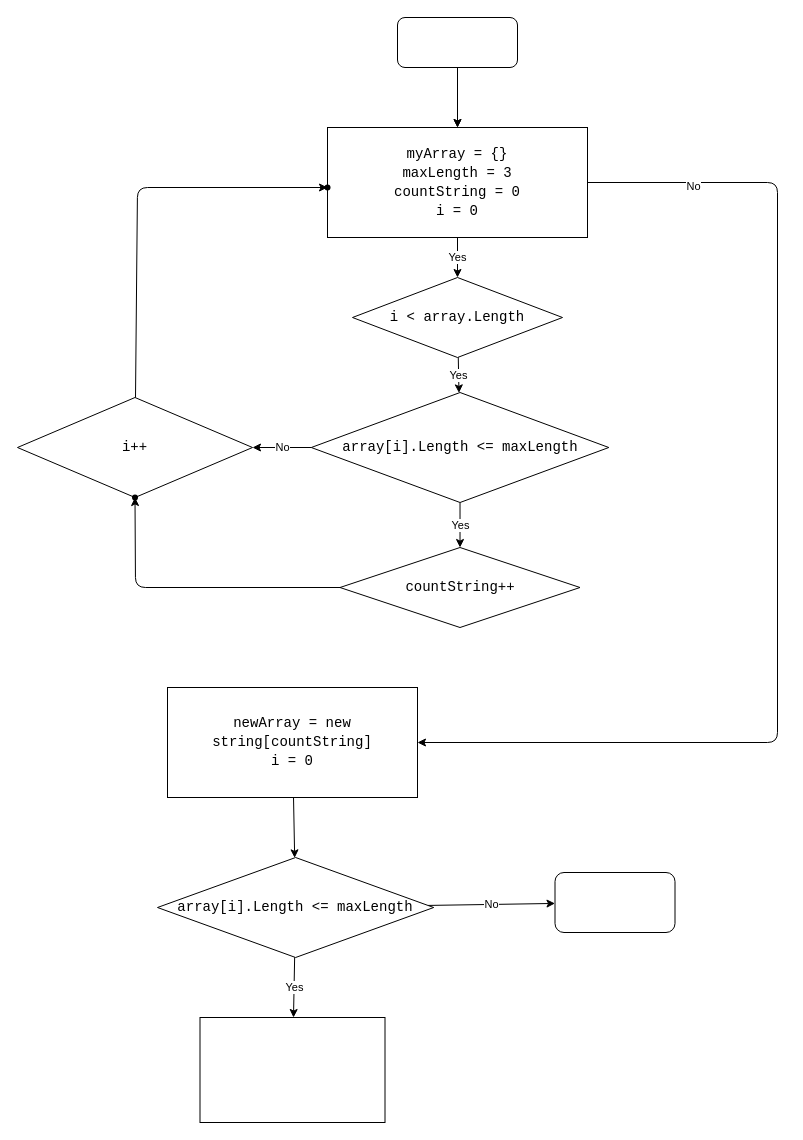
The diagram is 803 pixels wide and 1140 high, and some of its shapes have lost their labels. The centre of each missing label's shape, as x and y in pixels:
countString--; newArray[countString] = array[i];: (292,1069)
End: (614,902)
Start: (457,42)
